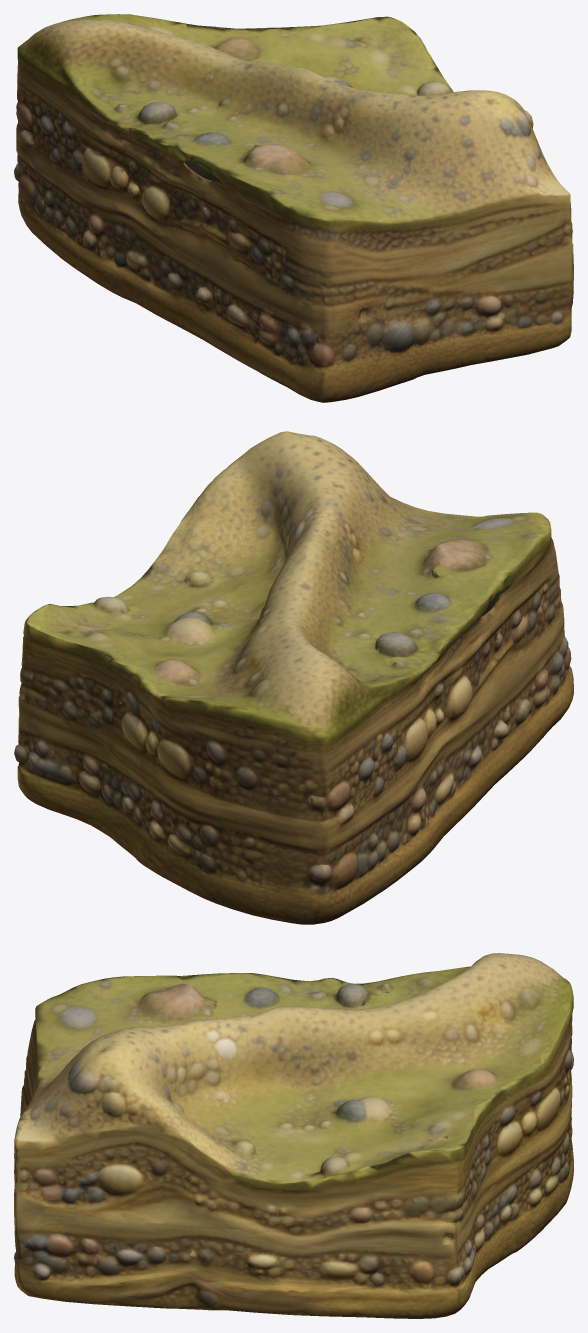
The picture shows the model from 3 angles, top to bottom: view 1: azimuth 30°, elevation 25°; view 2: azimuth 150°, elevation 25°; view 3: azimuth 270°, elevation 25°; orthographic projection. The views are drawn at different scales.
Visible parts, largest first — view 1: world; view 2: world; view 3: world.
Part boxes in pixels (<box>): world: <box>14,14,573,402</box>; world: <box>14,431,573,924</box>; world: <box>14,953,573,1318</box>.
Size of the model in its own units: 21.81 by 14.59 by 30.
1 material, 1 textured.
